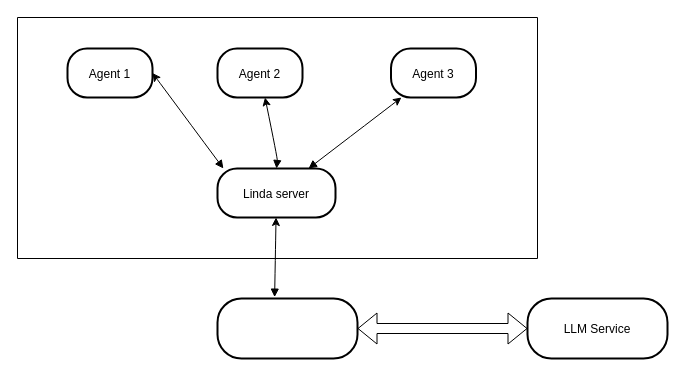
This 686x377 diagram has some shape labels left out. Each missing label, with the box of its shape:
DALI MAS Internal communcation: (16, 16, 538, 258)
PyDALI+ LLM API: (216, 297, 358, 359)
